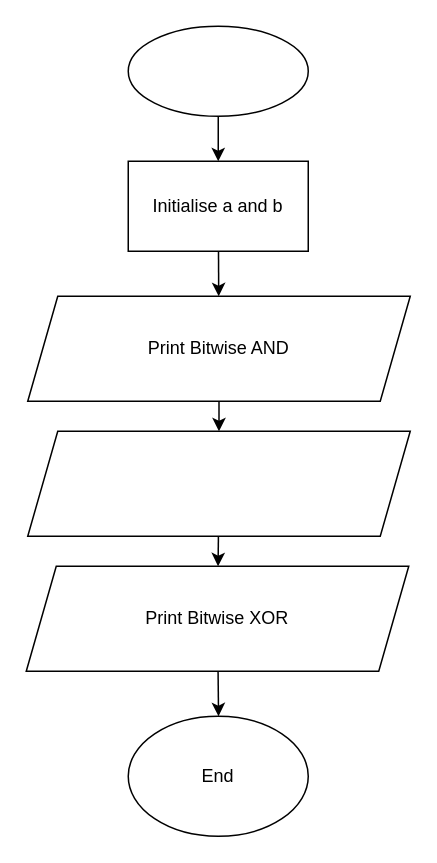
Image size: 437x863. Some labels were removed from this diagram. Here are the shapes that lost their labels. From the top down, the centre of each, then its label:
At [217,70]: "Start".
At [218,483]: "Print Bitwise OR".
